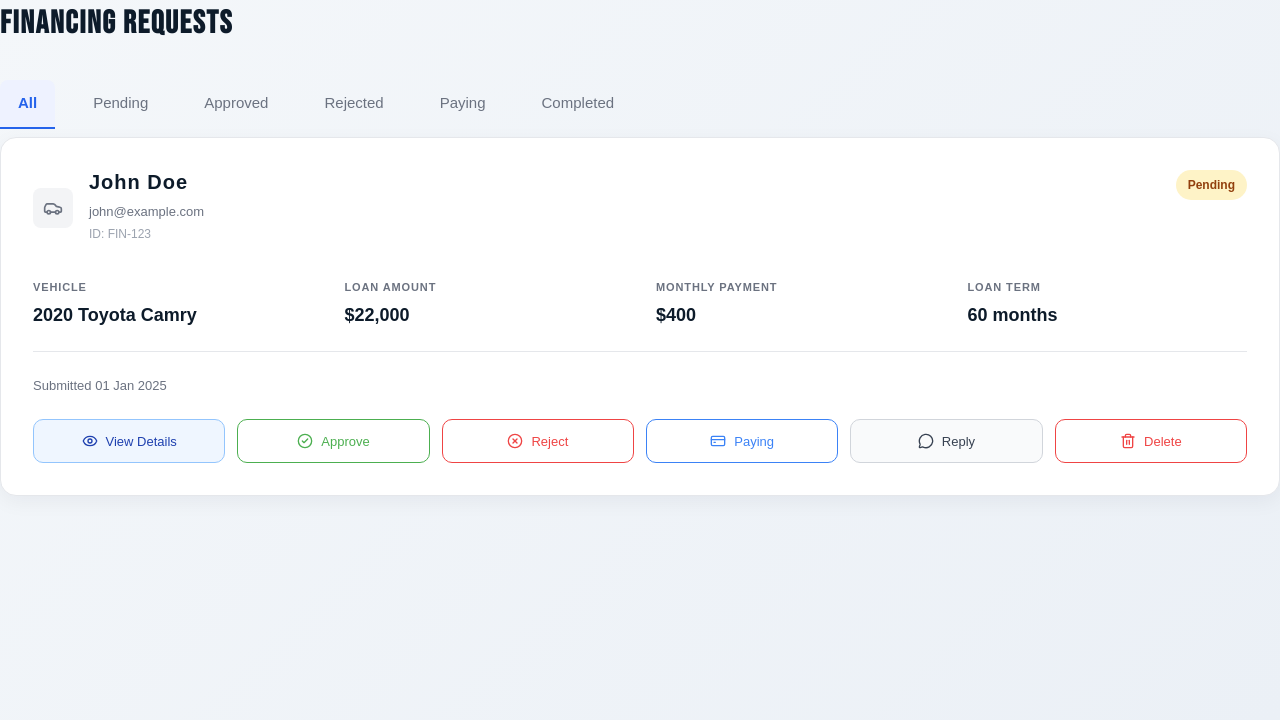
Test: AdminFinancing - Details modal › closes the modal via the close button
This screenshot has width=1280, height=720.
Expected: the text "View Details" is shown, [106, 432, 177, 451]
Click the button "View Details". click: (129, 441)
box: [33, 419, 225, 463]
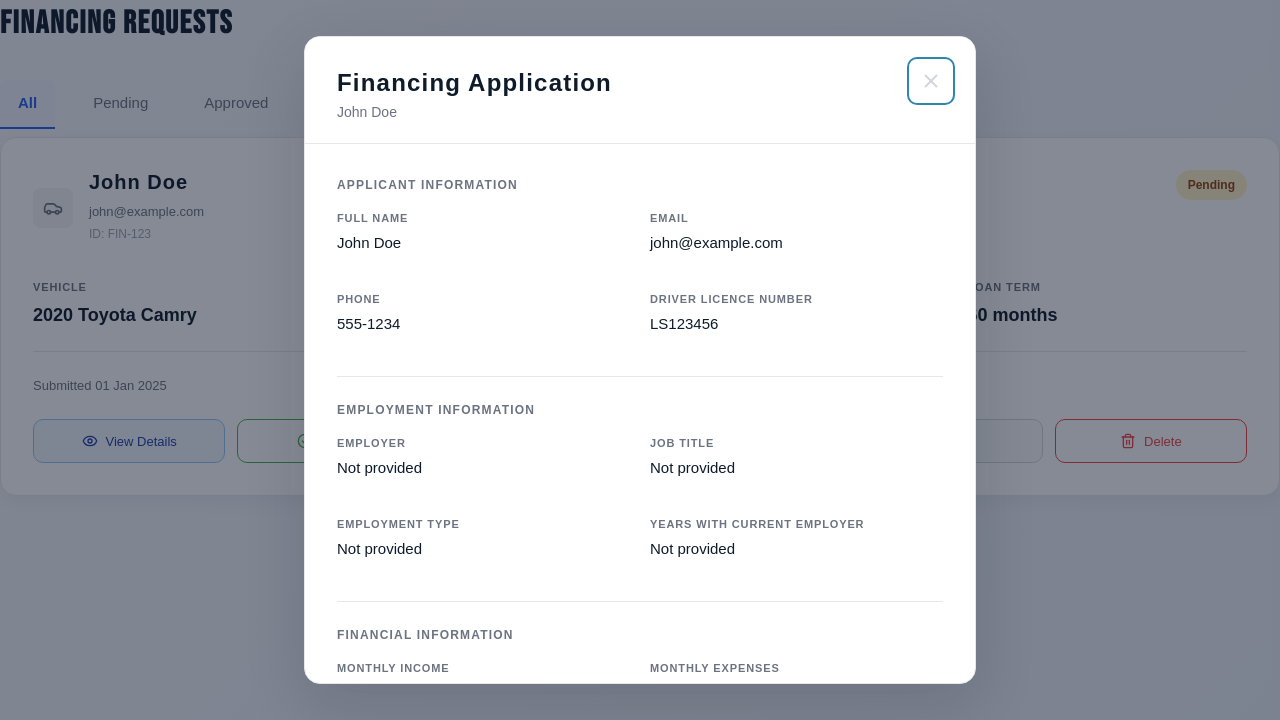
Result: the dialog is shown at [304, 36, 976, 684]
Click the button named "Close application details". click: (931, 81)
box: [911, 61, 951, 101]
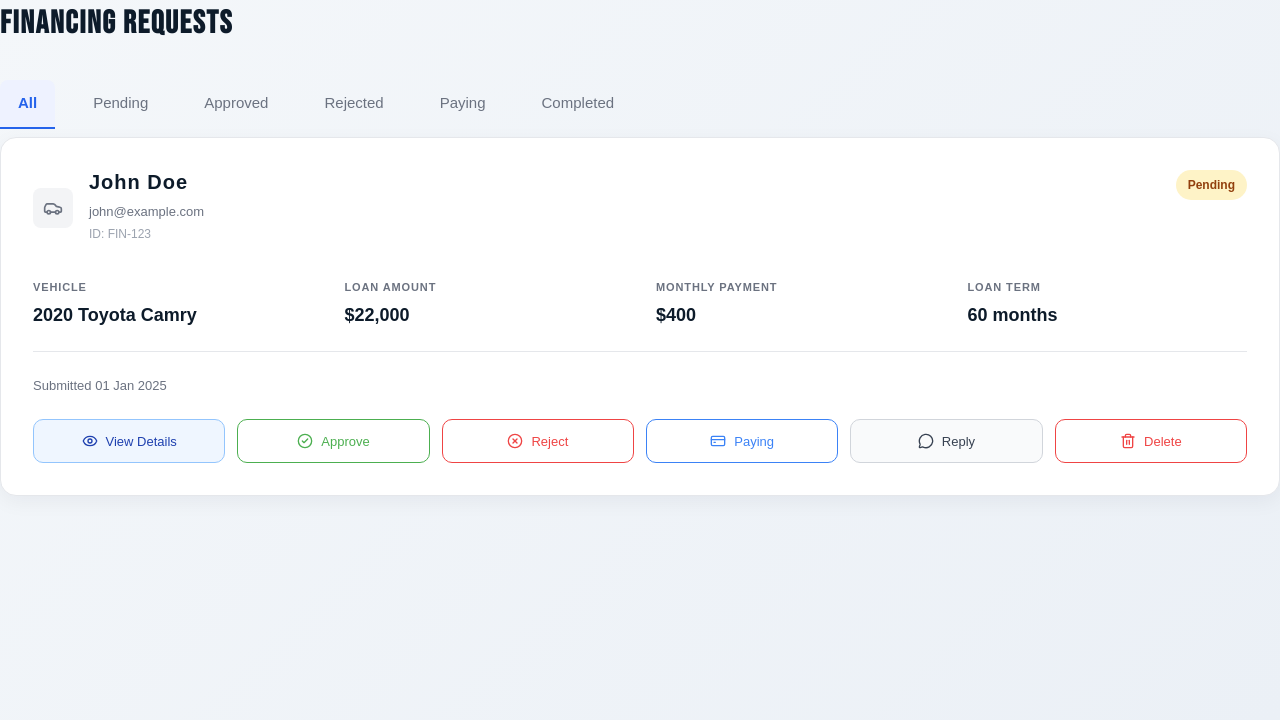
Result: the dialog is gone
